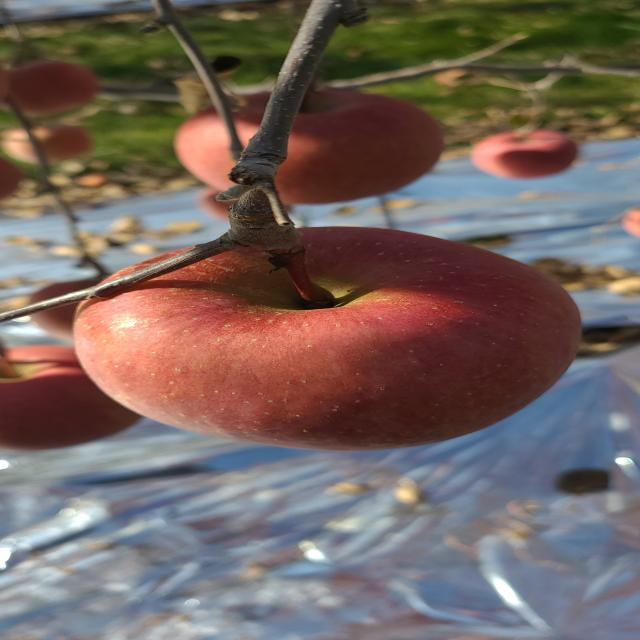fresh: (62, 219, 600, 454)
